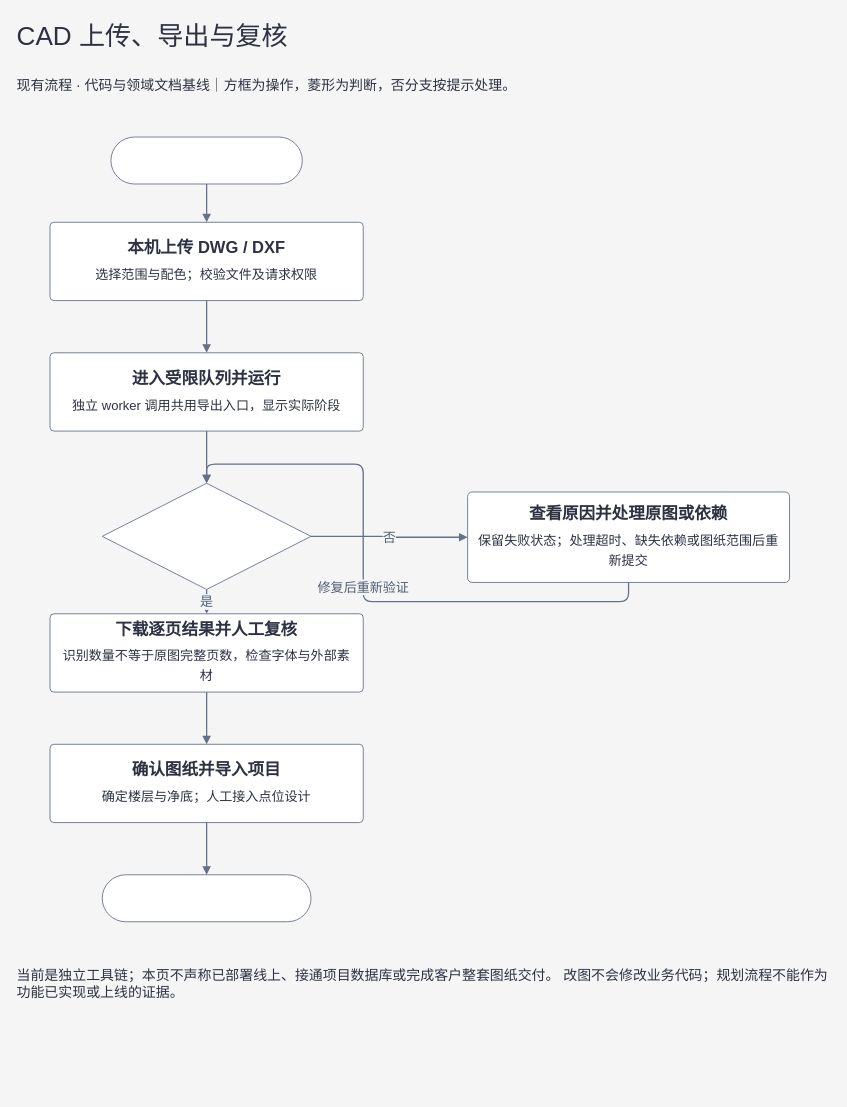
Some shapes in this 847 by 1107 pixel diagram are drawn without their labels. Each missing label, with the centre of its shape:
"导出任务成功？ 队列、超时与失败状态明确；不提供失败半成品" belongs at pixel 206 535.
"开始" belongs at pixel 206 160.
"结束 / 返回工作台" belongs at pixel 206 898.
